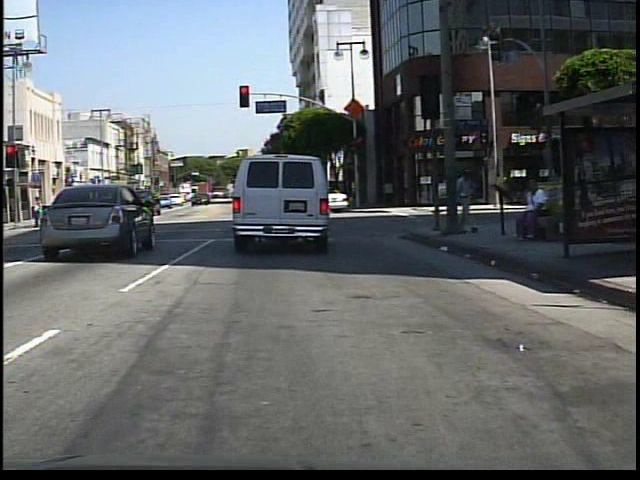person: (511, 177, 554, 243), (451, 164, 481, 238), (32, 194, 44, 229)
